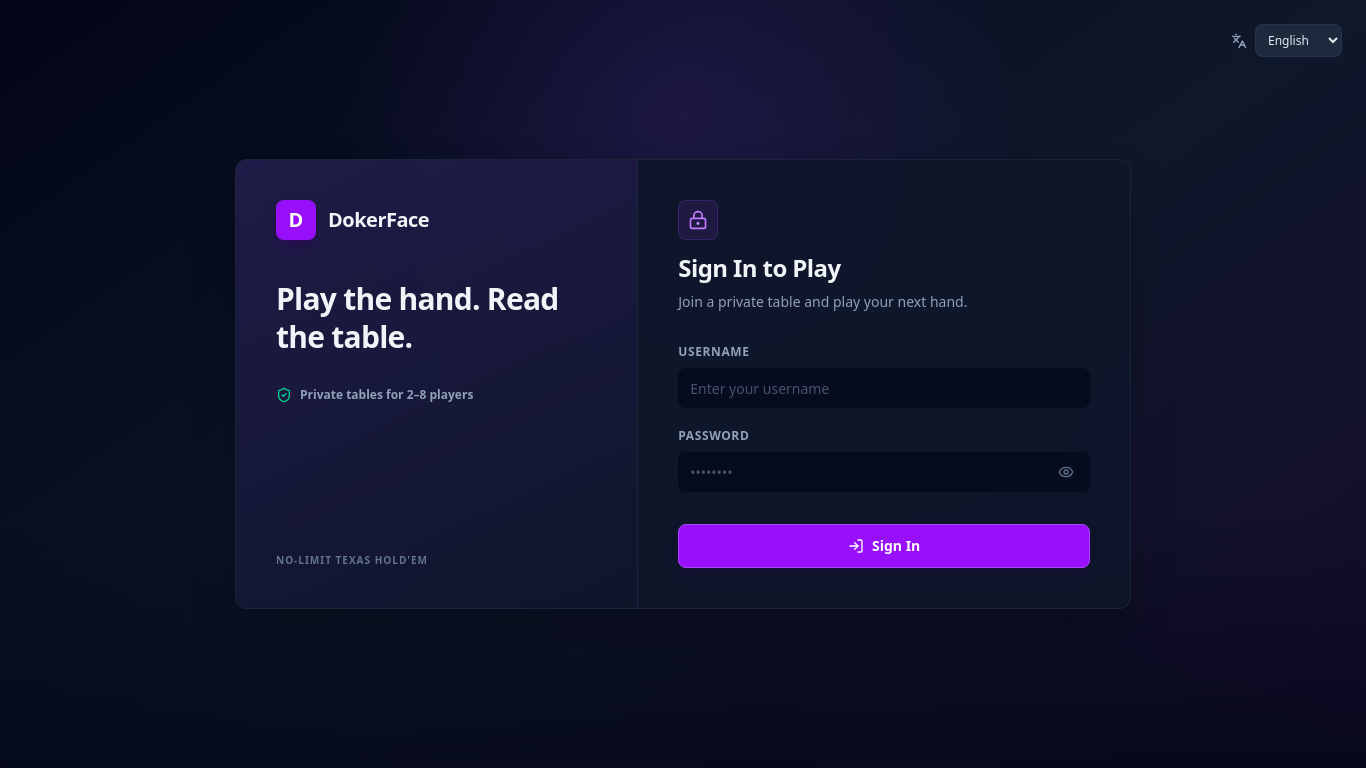
Test: Login page localization › shows the backend error text unchanged while the interface is Chinese
This screenshot has width=1366, height=768.
Expected: the heading "Sign In to Play" is shown, [678,251,840,284]
Select "简体中文" in the dropdown named "Change language" at (1298, 40), box [1255,24,1342,57]
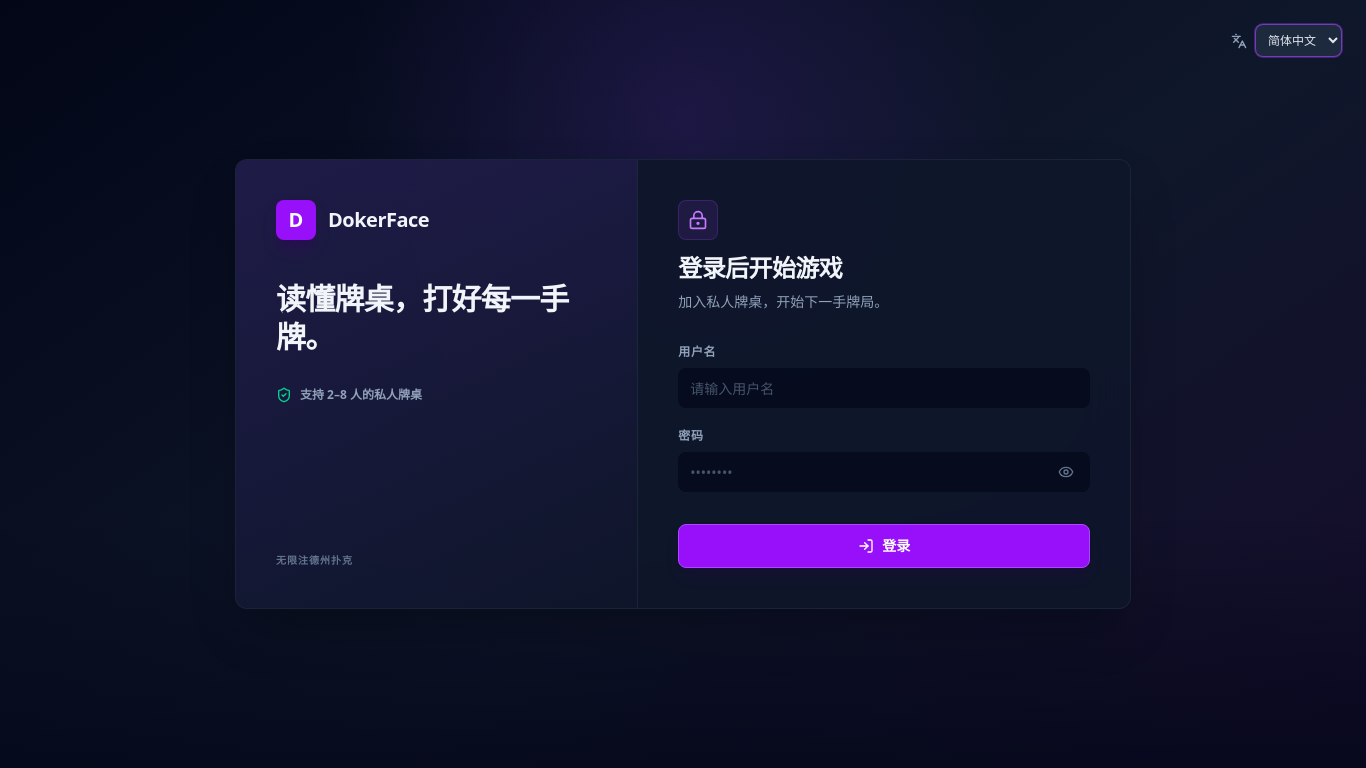
Type "alice" into the field with placeholder "请输入用户名" at (884, 388), box [678,368,1090,408]
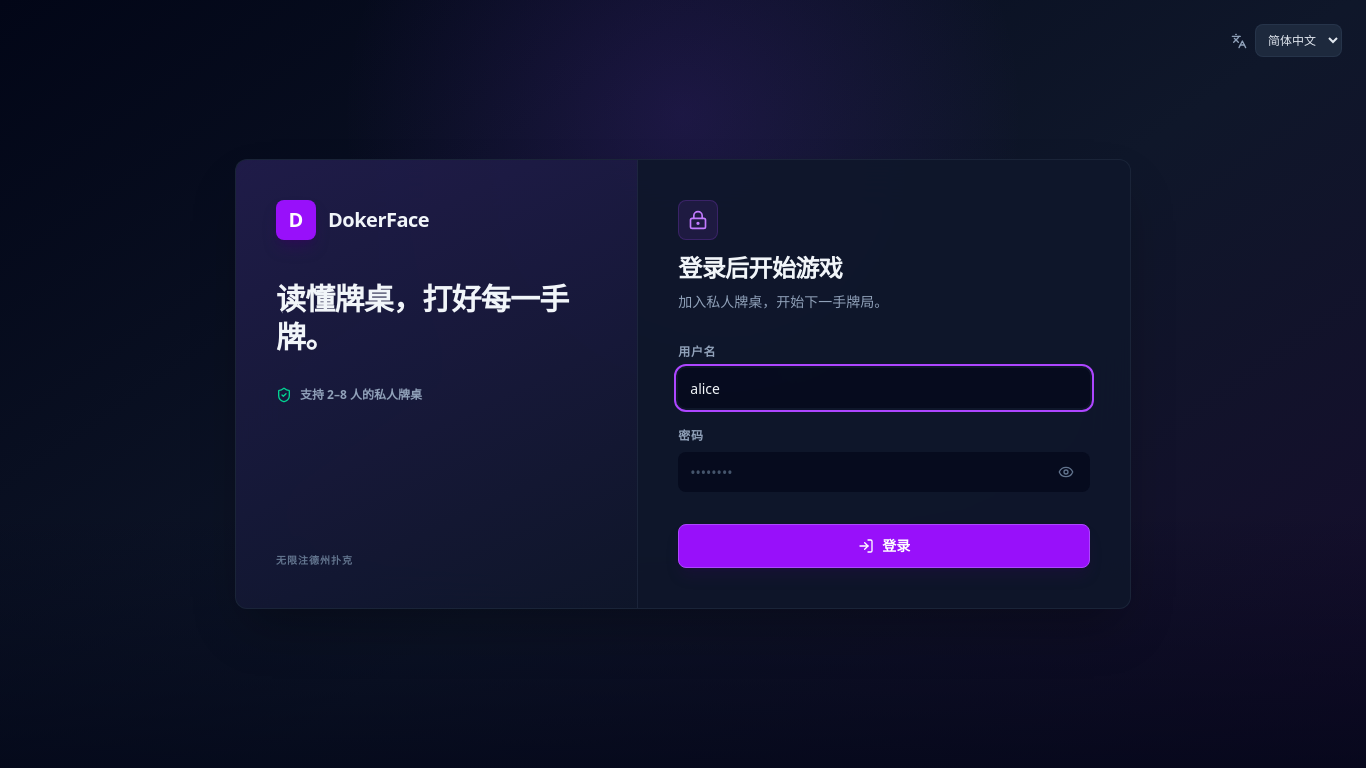
Type "wrong-password" into the password field with placeholder "••••••••" at (884, 472), box [678,452,1090,492]
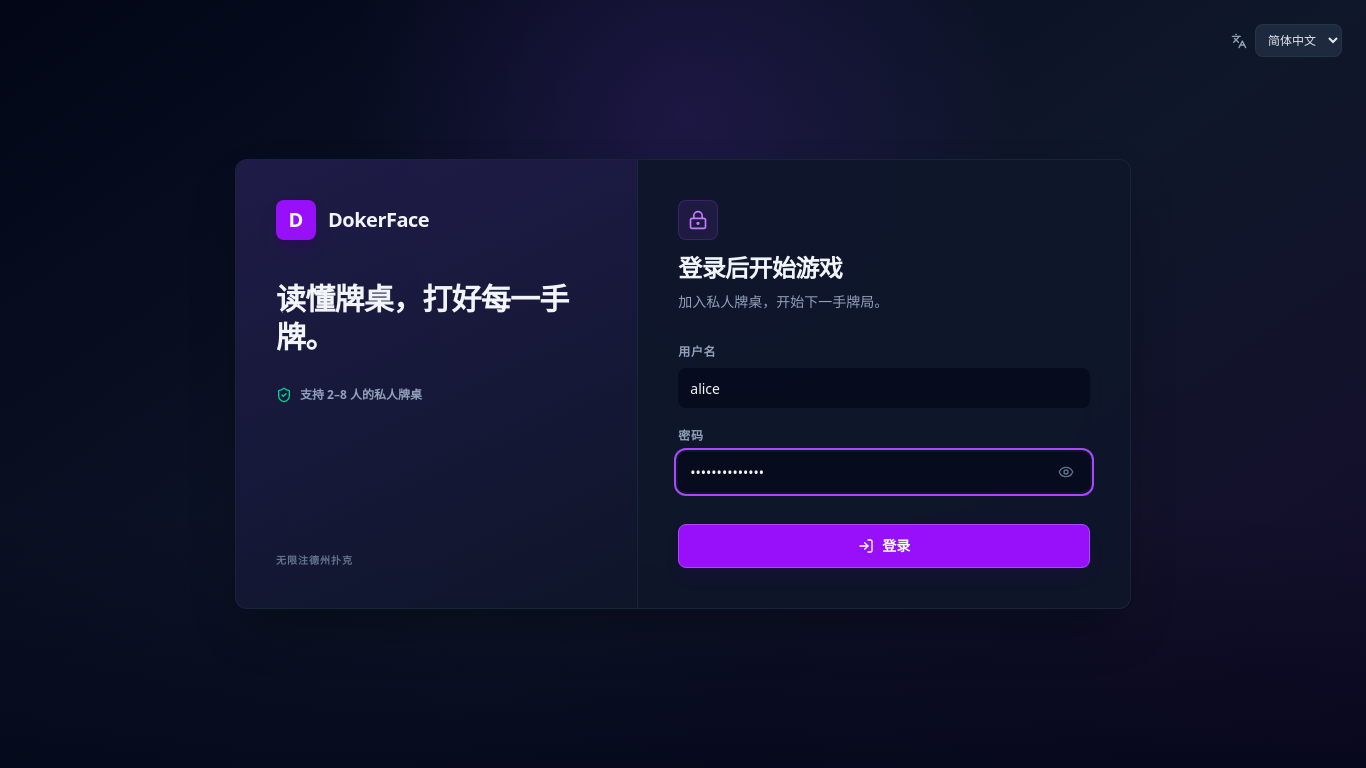
Click the button "登录" at (884, 546), box [678,524,1090,568]
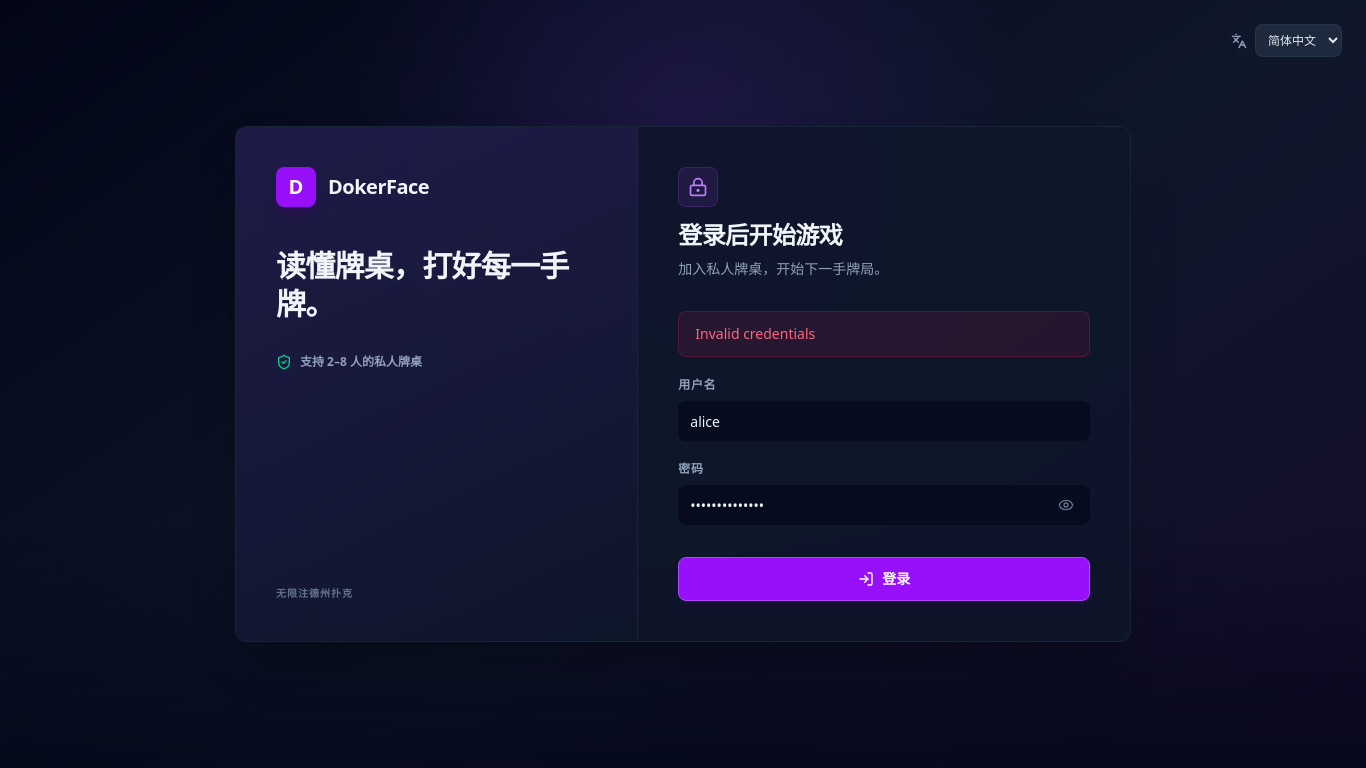
Now the text "Invalid credentials" is shown, box [678,311,1090,357]
